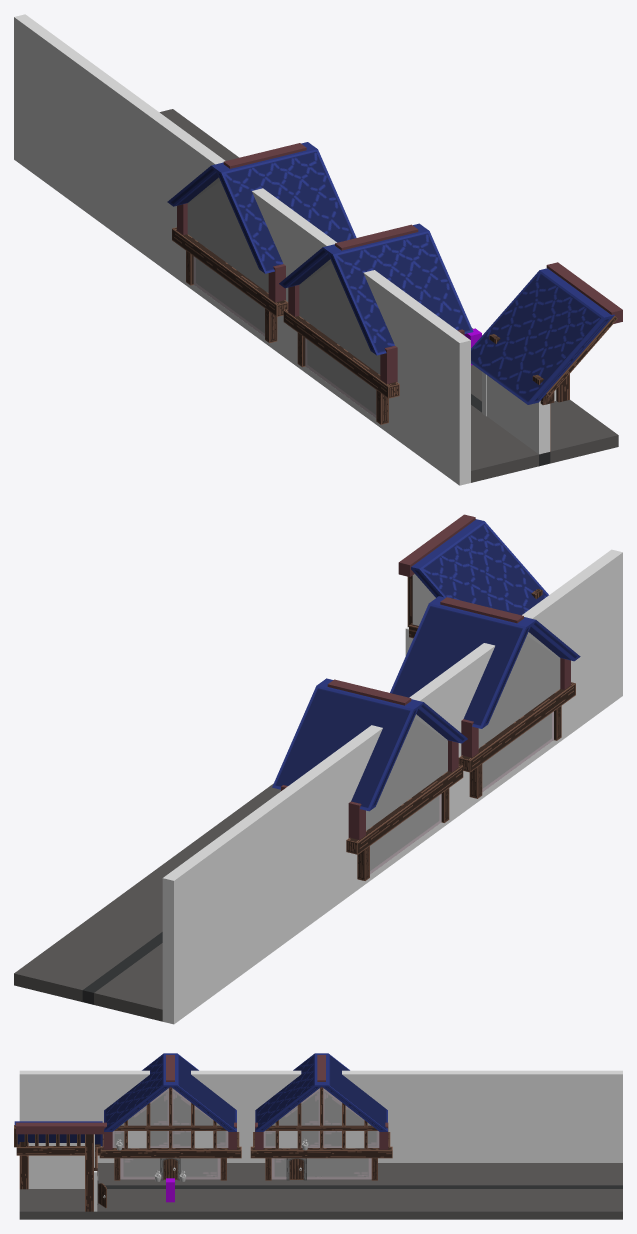
File: villageLevelV1.fbx
3 renders of one model, top to bottom at view 1: azimuth 30°, elevation 25°; view 2: azimuth 150°, elevation 25°; view 3: azimuth 270°, elevation 25°, orthographic. The views are drawn at different scales.
Parts seen in each view (by area): view 1: Wall-Dungeon1.002, Wall-Dungeon1.001, Cube.050, Cube.012, Cube.035, Cube.026, Cube.002, Floor-Village, Floor-Village.001, Wall-Basic.002, Cube.004, Cube.028 (+5 smaller); view 2: Wall-Dungeon1.002, Wall-Dungeon1.001, Floor-Village.002, Cube.035, Cube.012, Cube.050, Cube.002, Cube.026, Floor-Village.003, Cube.028, Cube.004, Cube.062 (+4 smaller); view 3: Wall-Dungeon1.002, Floor-Village.002, Wall-Dungeon1.001, Floor-Village, Floor-Village.003, Cube.026, Cube.002, Cube.035, Cube.012, Floor-Village.001, Wall-Basic.002, Cube.027 (+21 smaller).
Boxes of the visible parts, bbox=[...] form: Wall-Dungeon1.002: bbox=[14, 14, 236, 322]; Wall-Dungeon1.001: bbox=[236, 188, 470, 485]; Cube.050: bbox=[471, 268, 614, 404]; Cube.012: bbox=[279, 223, 473, 355]; Cube.035: bbox=[167, 142, 356, 273]; Cube.026: bbox=[187, 177, 268, 336]; Cube.002: bbox=[299, 259, 380, 417]; Floor-Village: bbox=[471, 328, 618, 463]; Floor-Village.001: bbox=[471, 405, 538, 482]; Wall-Basic.002: bbox=[482, 371, 556, 454]; Cube.004: bbox=[283, 309, 399, 398]; Cube.028: bbox=[172, 227, 288, 316]; Wall-Dungeon1.002: bbox=[162, 725, 398, 1024]; Wall-Dungeon1.001: bbox=[398, 549, 622, 859]; Floor-Village.002: bbox=[14, 809, 251, 1001]; Cube.035: bbox=[272, 678, 467, 811]; Cube.012: bbox=[390, 596, 580, 728]; Cube.050: bbox=[411, 519, 548, 615]; Cube.002: bbox=[478, 632, 560, 791]; Cube.026: bbox=[366, 714, 447, 874]; Floor-Village.003: bbox=[94, 943, 162, 1021]; Cube.028: bbox=[346, 764, 463, 854]; Cube.004: bbox=[458, 682, 575, 772]; Cube.062: bbox=[398, 514, 475, 576]; Wall-Dungeon1.002: bbox=[342, 1070, 622, 1162]; Floor-Village.002: bbox=[321, 1189, 622, 1219]; Wall-Dungeon1.001: bbox=[19, 1070, 301, 1162]; Floor-Village: bbox=[19, 1189, 321, 1219]; Floor-Village.003: bbox=[321, 1163, 622, 1185]; Cube.026: bbox=[263, 1088, 379, 1179]; Cube.002: bbox=[112, 1088, 228, 1179]; Cube.035: bbox=[255, 1053, 387, 1131]; Cube.012: bbox=[104, 1053, 236, 1131]; Floor-Village.001: bbox=[97, 1163, 321, 1185]; Wall-Basic.002: bbox=[28, 1155, 97, 1211]; Cube.027: bbox=[250, 1146, 392, 1158].
Size of the model in its own units: 3186 by 2709 by 13731.
